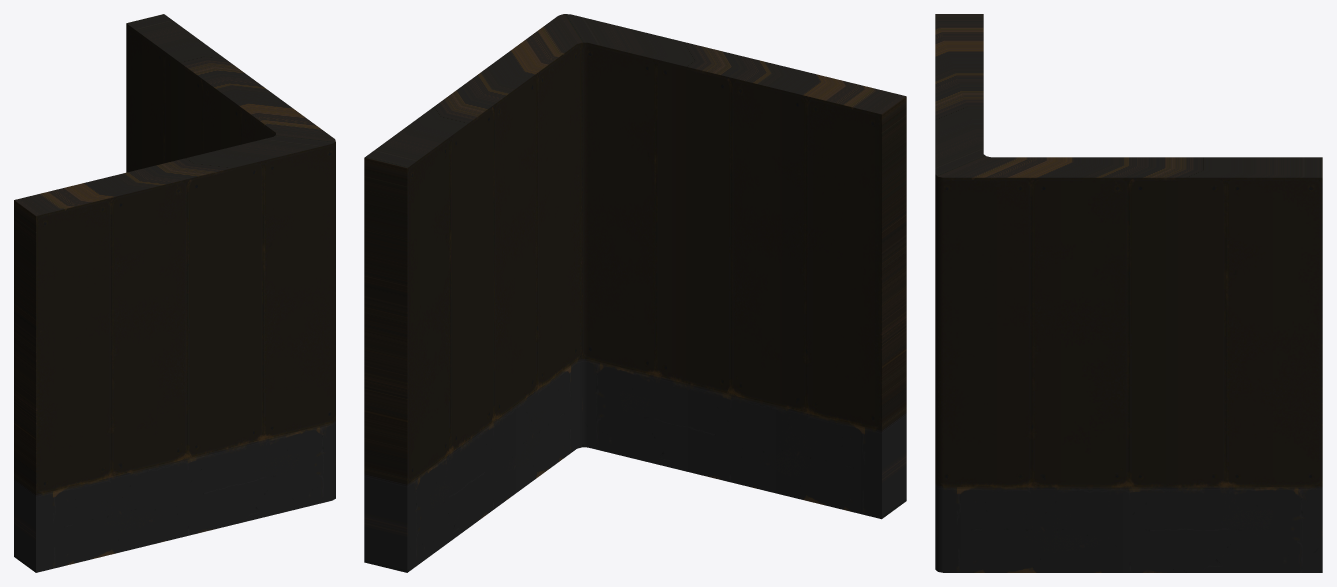
File: Wall_Yellow03_BorderIn.dae
3 renders of one model, left to right at view 1: azimuth 30°, elevation 25°; view 2: azimuth 150°, elevation 25°; view 3: azimuth 270°, elevation 25°, orthographic. The views are drawn at different scales.
Visible parts, largest first — view 1: polySurface6; view 2: polySurface6; view 3: polySurface6.
Boxes of the visible parts, x1=… form: polySurface6: x1=14, y1=14, x2=335, y2=572; polySurface6: x1=364, y1=14, x2=906, y2=572; polySurface6: x1=935, y1=14, x2=1322, y2=572.
Size of the model in its own units: 4 by 4.5 by 4.
1 material, 1 textured.
